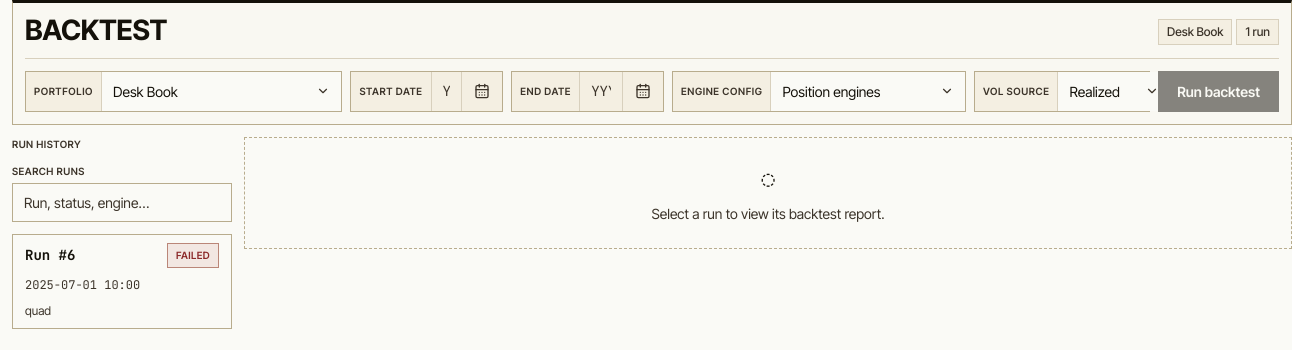
it: BacktestLive › shows failure message for a failed run
The image size is (1292, 350).
Click the text "Run #6": (50,255) [25,245,75,266]
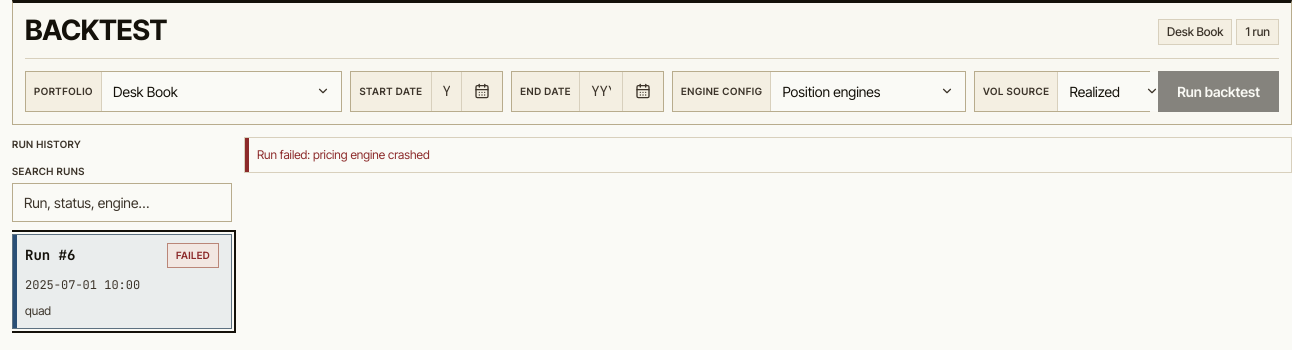
Expected: the text "Run failed: pricing engine crashed" is shown, [244,137,1291,173]
